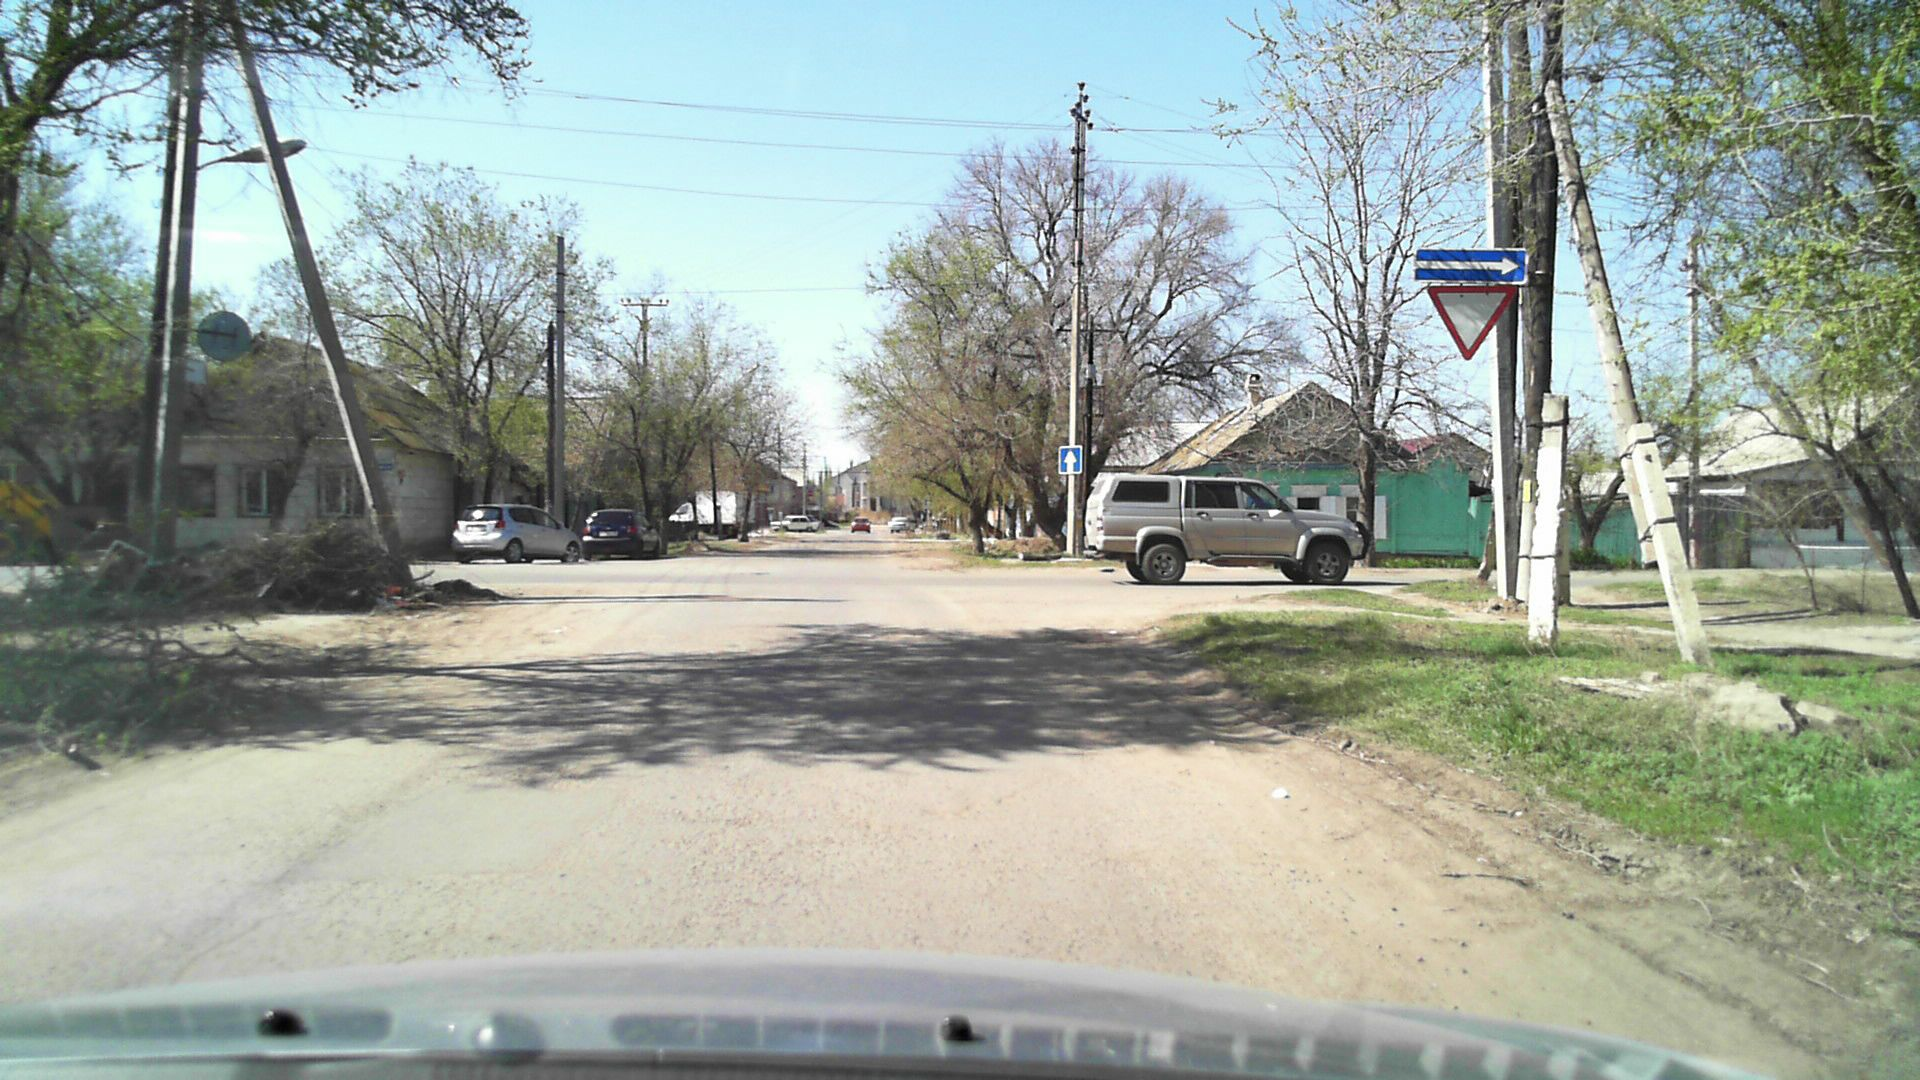One-Way Traffic: (1415, 248, 1528, 284)
